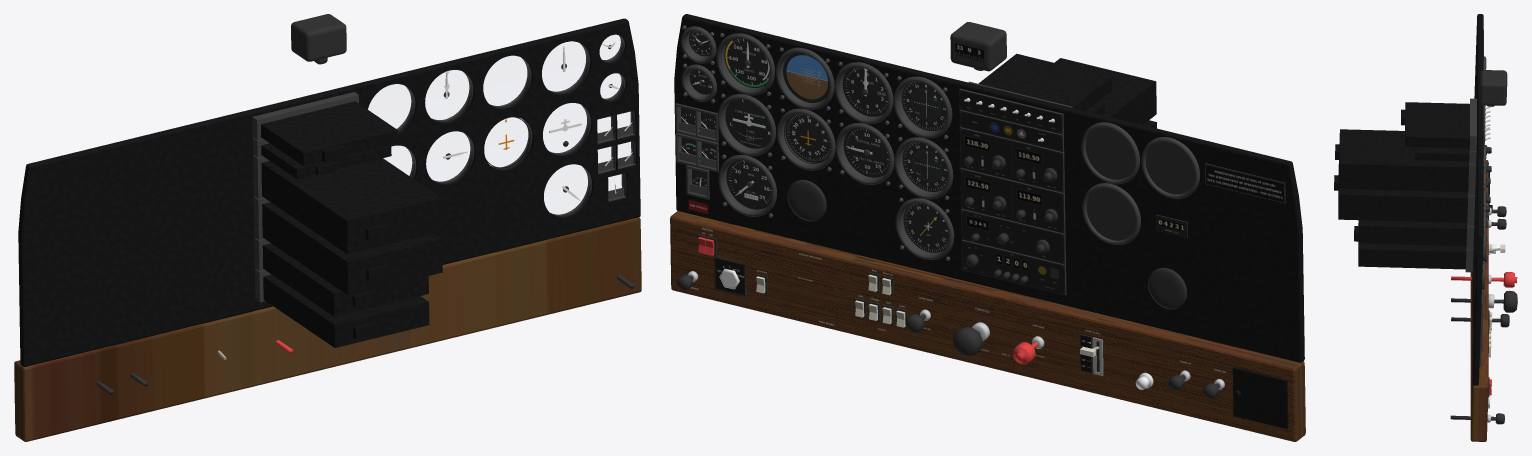
File: PANEL.glb
The picture shows the model from 3 angles, left to right: view 1: azimuth 30°, elevation 25°; view 2: azimuth 150°, elevation 25°; view 3: azimuth 270°, elevation 25°; orthographic projection. The views are drawn at different scales.
Parts seen in each view (by area): view 1: PANEL.upper_panel, PANEL.lower_panel, PANEL.radio_COMNAV1.chassis, PANEL.radio_COMNAV2.chassis, PANEL.radio_AUDIO.chassis, PANEL.radio_XPDR.chassis, PANEL.radio_ADF.chassis, PANEL.magnetic_compass, PANEL.radio_MARKER.chassis, PANEL.radio_AUDIO; view 2: PANEL.upper_panel, PANEL.lower_panel, PANEL.radio_AUDIO.chassis, PANEL.radio_COMNAV2, PANEL.radio_COMNAV1, PANEL.radio_XPDR, PANEL.radio_ADF, PANEL.instrument_space_1, PANEL.instrument_space_3, PANEL.instrument_space_2, PANEL.map_compartment, PANEL.radio_COMNAV1.chassis (+31 smaller); view 3: PANEL.radio_COMNAV1.chassis, PANEL.radio_COMNAV2.chassis, PANEL.upper_panel, PANEL.radio_AUDIO.chassis, PANEL.radio_XPDR.chassis, PANEL.radio_ADF.chassis, PANEL.lower_panel, PANEL.magnetic_compass, PANEL.radio_MARKER.chassis, PANEL.radio_AUDIO, PANEL.throttle, PANEL.mixture (+5 smaller).
Boxes of the visible parts, <box> form: PANEL.upper_panel: <box>18,18,640,366</box>; PANEL.lower_panel: <box>14,217,641,441</box>; PANEL.radio_COMNAV1.chassis: <box>261,158,441,254</box>; PANEL.radio_COMNAV2.chassis: <box>262,202,442,295</box>; PANEL.radio_AUDIO.chassis: <box>261,101,398,166</box>; PANEL.radio_XPDR.chassis: <box>263,274,429,347</box>; PANEL.radio_ADF.chassis: <box>262,243,428,316</box>; PANEL.magnetic_compass: <box>291,14,346,64</box>; PANEL.radio_MARKER.chassis: <box>261,143,391,178</box>; PANEL.radio_AUDIO: <box>252,92,358,139</box>; PANEL.upper_panel: <box>674,14,1304,362</box>; PANEL.lower_panel: <box>670,211,1305,441</box>; PANEL.radio_AUDIO.chassis: <box>978,53,1112,110</box>; PANEL.radio_COMNAV2: <box>960,168,1065,233</box>; PANEL.radio_COMNAV1: <box>959,127,1064,192</box>; PANEL.radio_XPDR: <box>961,239,1066,295</box>; PANEL.radio_ADF: <box>961,209,1065,264</box>; PANEL.instrument_space_1: <box>1081,122,1139,184</box>; PANEL.instrument_space_3: <box>1082,183,1140,244</box>; PANEL.instrument_space_2: <box>1141,137,1199,198</box>; PANEL.map_compartment: <box>1232,367,1288,428</box>; PANEL.radio_COMNAV1.chassis: <box>1054,58,1156,124</box>; PANEL.radio_COMNAV1.chassis: <box>1335,129,1468,192</box>; PANEL.radio_COMNAV2.chassis: <box>1334,164,1467,222</box>; PANEL.upper_panel: <box>1472,14,1483,385</box>; PANEL.radio_AUDIO.chassis: <box>1401,102,1469,148</box>; PANEL.radio_XPDR.chassis: <box>1354,220,1466,269</box>; PANEL.radio_ADF.chassis: <box>1359,220,1466,246</box>; PANEL.lower_panel: <box>1470,160,1488,441</box>; PANEL.magnetic_compass: <box>1479,70,1507,106</box>; PANEL.radio_MARKER.chassis: <box>1415,147,1469,161</box>; PANEL.radio_AUDIO: <box>1469,98,1490,151</box>; PANEL.throttle: <box>1451,290,1517,312</box>; PANEL.mixture: <box>1451,272,1517,287</box>.
Size of the model in its own units: 1 by 0.5178 by 0.3413.
17 materials, 6 textured.
